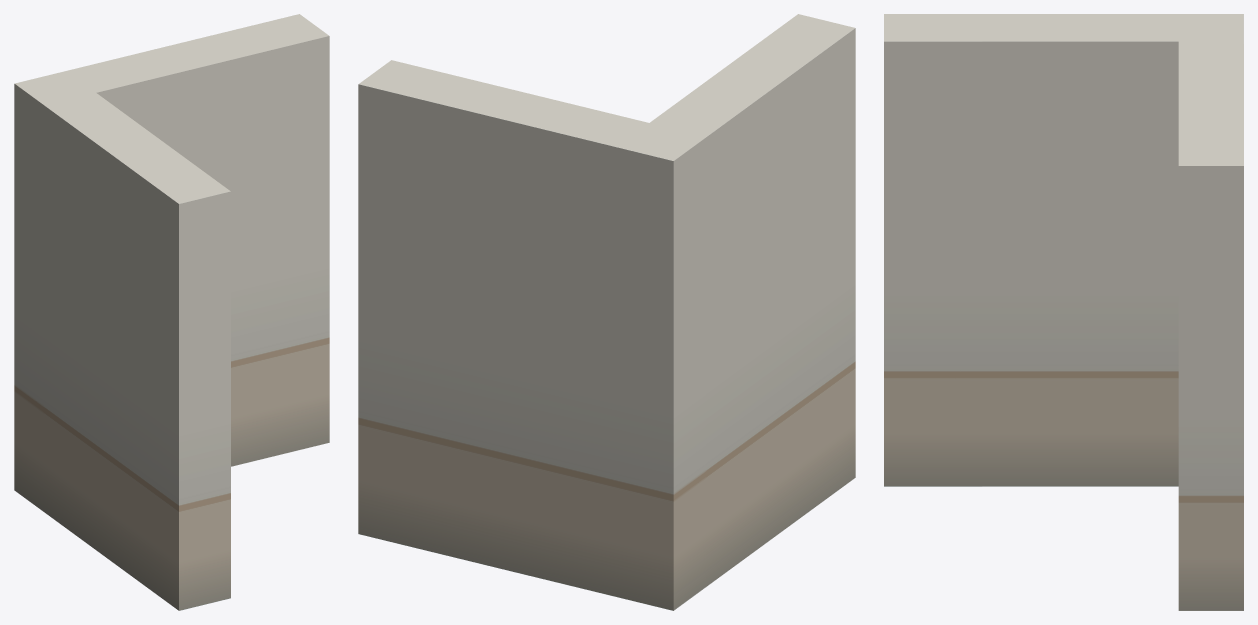
The model's file is wall_corner_long.fbx.
3 renders of one model, left to right at view 1: azimuth 30°, elevation 25°; view 2: azimuth 150°, elevation 25°; view 3: azimuth 270°, elevation 25°, orthographic. The views are drawn at different scales.
Parts seen in each view (by area): view 1: wall_corner_long; view 2: wall_corner_long; view 3: wall_corner_long.
Boxes of the visible parts, bbox=[...] form: wall_corner_long: bbox=[14, 14, 329, 610]; wall_corner_long: bbox=[358, 14, 855, 610]; wall_corner_long: bbox=[884, 14, 1243, 610].
Size of the model in its own units: 2.2 by 3 by 2.2.
1 material, 1 textured.
